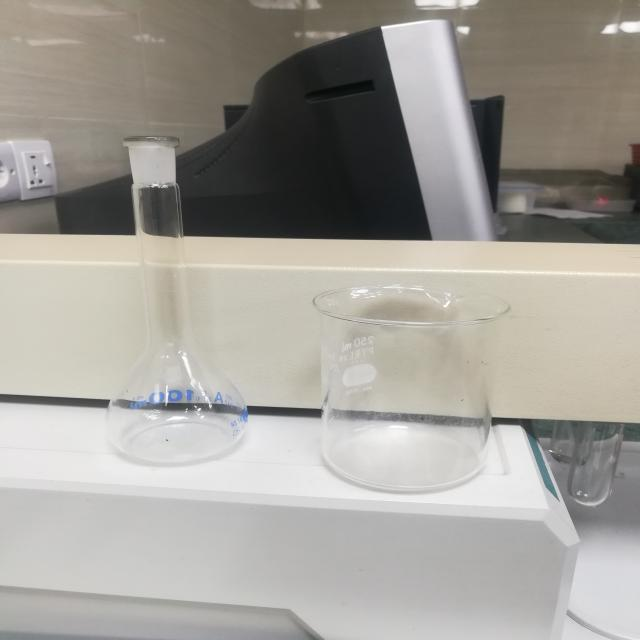Beaker: (291, 271, 528, 493)
Volumetric_Flask: (87, 108, 275, 480)
